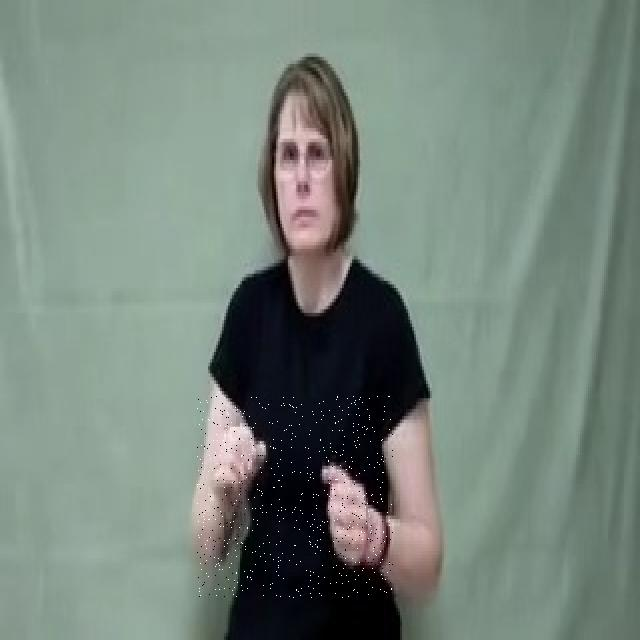cold: (197, 396, 393, 598)
